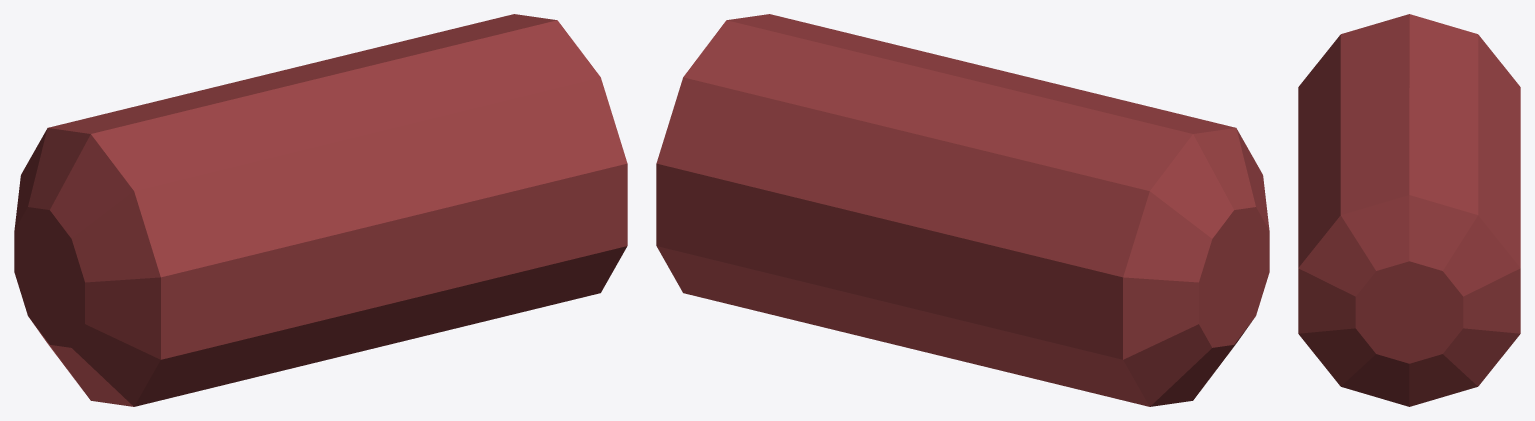
3 renders of one model, left to right at view 1: azimuth 30°, elevation 25°; view 2: azimuth 150°, elevation 25°; view 3: azimuth 270°, elevation 25°, orthographic. The views are drawn at different scales.
Parts seen in each view (by area): view 1: T 2; view 2: T 2; view 3: T 2.
Boxes of the visible parts, x1=… form: T 2: x1=14, y1=14, x2=627, y2=406; T 2: x1=656, y1=14, x2=1269, y2=406; T 2: x1=1298, y1=14, x2=1520, y2=406.
Size of the model in its own units: 136 by 64.27 by 61.13.
